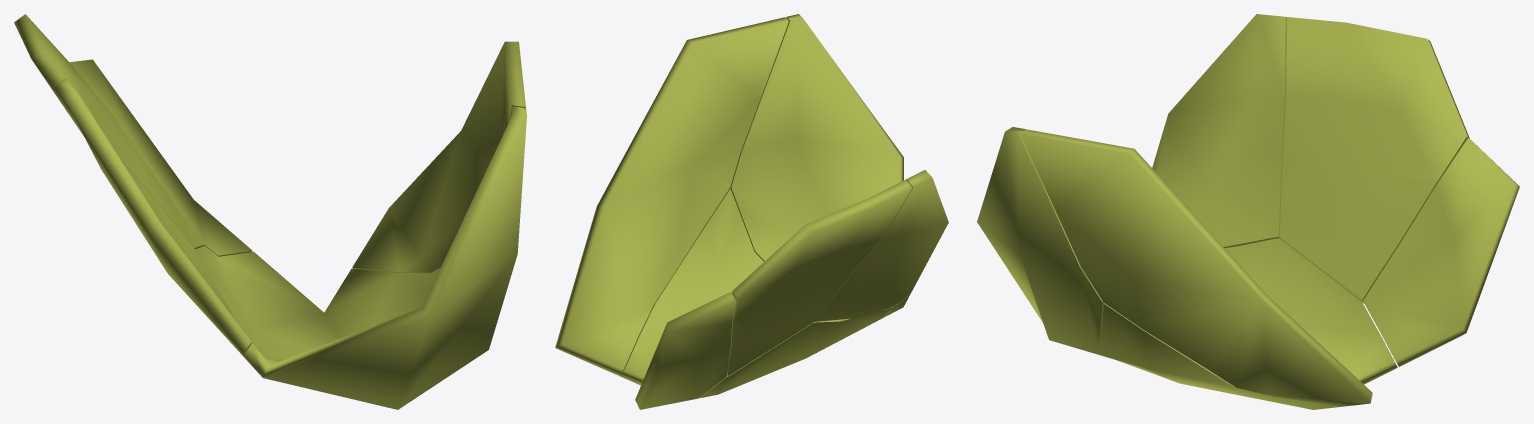
File: Plaque_13.fbx
The picture shows the model from 3 angles, left to right: view 1: azimuth 30°, elevation 25°; view 2: azimuth 150°, elevation 25°; view 3: azimuth 270°, elevation 25°; orthographic projection. The views are drawn at different scales.
Visible parts, largest first — view 1: tooth_u.037_cell, tooth_u.037_cell.005, tooth_u.037_cell.003, tooth_u.037_cell.001, tooth_u.037_cell.004, tooth_u.037_cell.002; view 2: tooth_u.037_cell.005, tooth_u.037_cell, tooth_u.037_cell.004, tooth_u.037_cell.003, tooth_u.037_cell.001, tooth_u.037_cell.002; view 3: tooth_u.037_cell.005, tooth_u.037_cell.004, tooth_u.037_cell.001, tooth_u.037_cell.002, tooth_u.037_cell.003, tooth_u.037_cell.
Boxes of the visible parts, box(x1,y1,x2,y2) form: tooth_u.037_cell: box(240, 106, 526, 409); tooth_u.037_cell.005: box(352, 41, 525, 273); tooth_u.037_cell.003: box(195, 246, 439, 360); tooth_u.037_cell.001: box(54, 79, 251, 353); tooth_u.037_cell.004: box(14, 14, 203, 249); tooth_u.037_cell.002: box(70, 59, 252, 256); tooth_u.037_cell.005: box(555, 17, 788, 374); tooth_u.037_cell: box(729, 14, 910, 319); tooth_u.037_cell.004: box(727, 179, 912, 375); tooth_u.037_cell.003: box(618, 188, 887, 398); tooth_u.037_cell.001: box(814, 170, 948, 321); tooth_u.037_cell.002: box(635, 292, 736, 409); tooth_u.037_cell.005: box(1020, 129, 1372, 406); tooth_u.037_cell.004: box(1279, 17, 1469, 303); tooth_u.037_cell.001: box(1152, 14, 1286, 247); tooth_u.037_cell.002: box(1363, 138, 1519, 366); tooth_u.037_cell.003: box(1099, 238, 1397, 409); tooth_u.037_cell: box(977, 127, 1105, 356).
Size of the model in its own units: 66.34 by 52.71 by 88.61.
